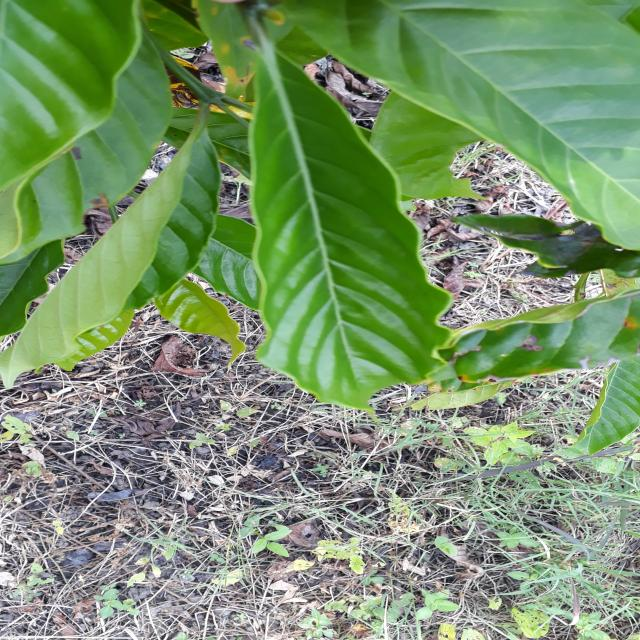Sanas: (248, 34, 457, 412)
